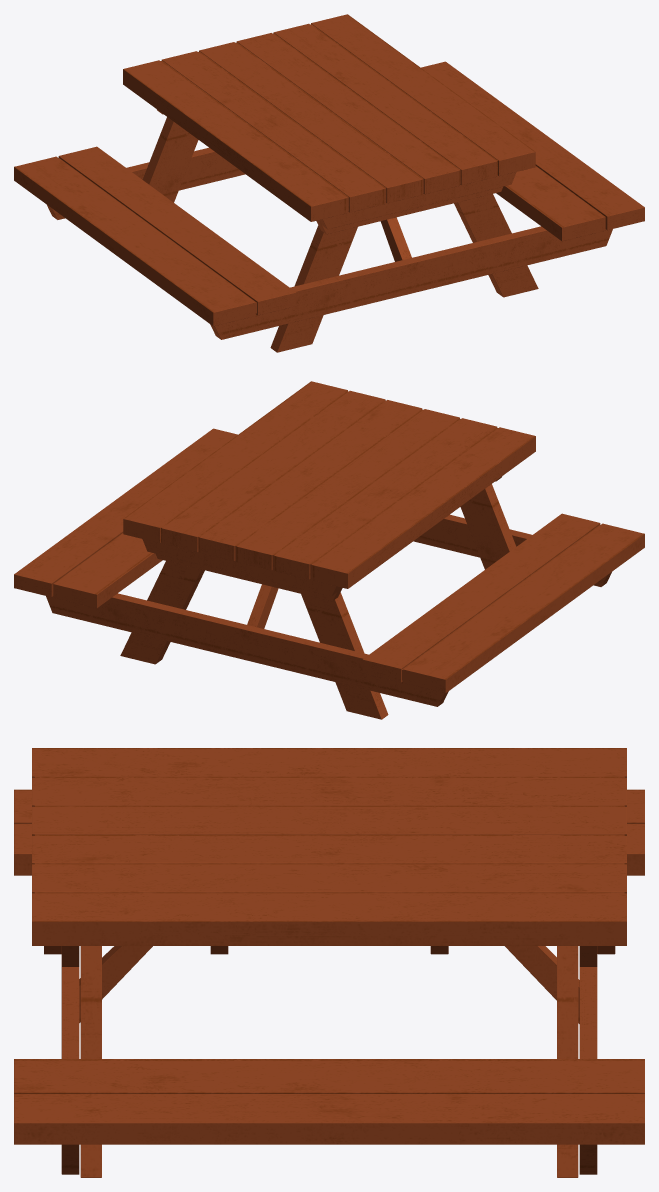
3 views of the same model, one above another, from view 1: azimuth 30°, elevation 25°; view 2: azimuth 150°, elevation 25°; view 3: azimuth 270°, elevation 25° (orthographic). The views are drawn at different scales.
Visible parts, largest first — view 1: Mesa Picnic; view 2: Mesa Picnic; view 3: Mesa Picnic.
Part boxes in pixels (box(x1,y1,x2,y2)): Mesa Picnic: box(14, 14, 644, 352); Mesa Picnic: box(14, 381, 644, 719); Mesa Picnic: box(14, 748, 644, 1177).
Size of the model in its own units: 401 by 136 by 321.
1 material, 1 textured.
